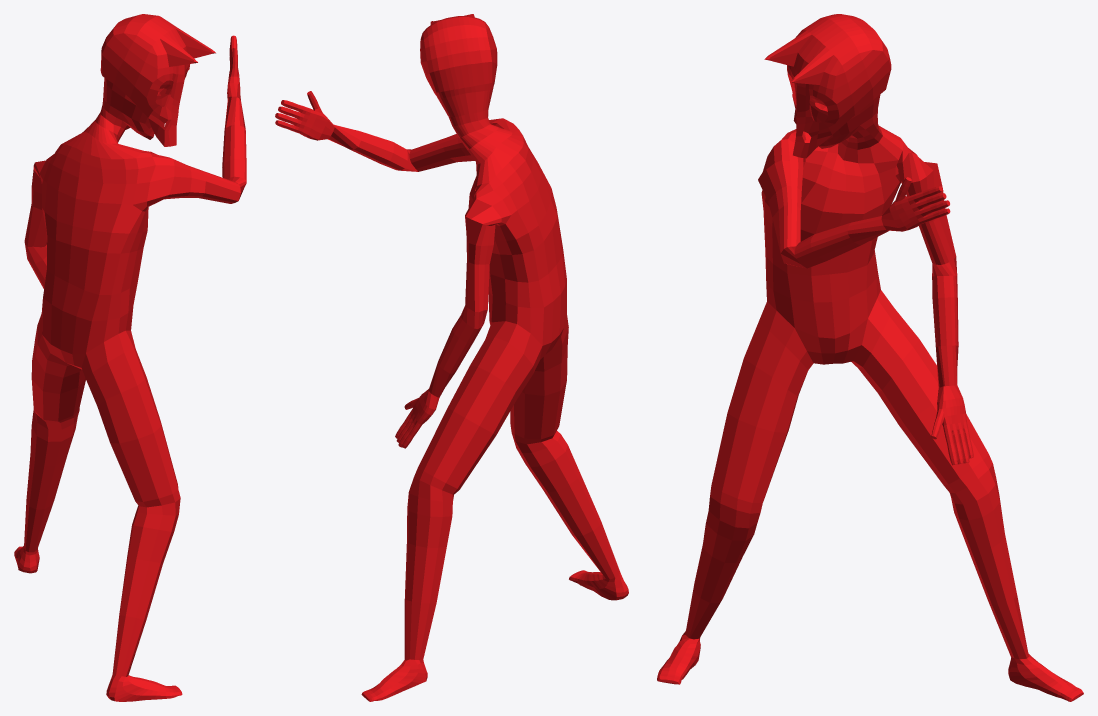
The model's file is activaAlarma_000129.obj.
3 renders of one model, left to right at view 1: azimuth 30°, elevation 25°; view 2: azimuth 150°, elevation 25°; view 3: azimuth 270°, elevation 25°, orthographic. The views are drawn at different scales.
Parts seen in each view (by area): view 1: Plane.002_Plane.001; view 2: Plane.002_Plane.001; view 3: Plane.002_Plane.001.
Boxes of the visible parts, bbox=[...] form: Plane.002_Plane.001: bbox=[14, 14, 246, 701]; Plane.002_Plane.001: bbox=[275, 14, 628, 701]; Plane.002_Plane.001: bbox=[657, 14, 1083, 701].
Size of the model in its own units: 2.75 by 6.66 by 3.74.
